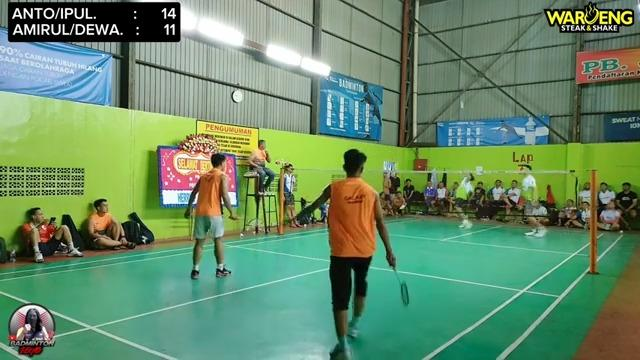Shuttlecock: (459, 100, 467, 110)
